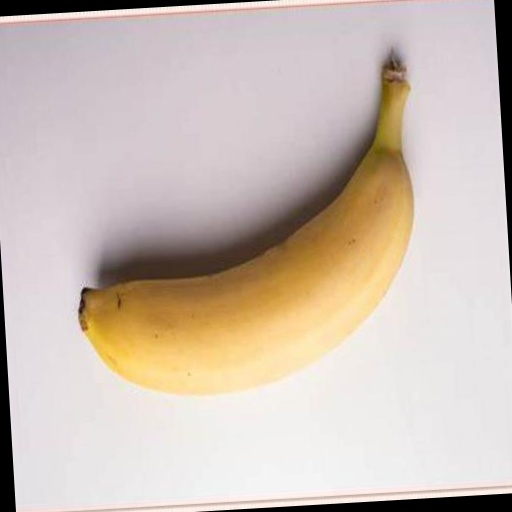fruit: (80, 59, 413, 394)
